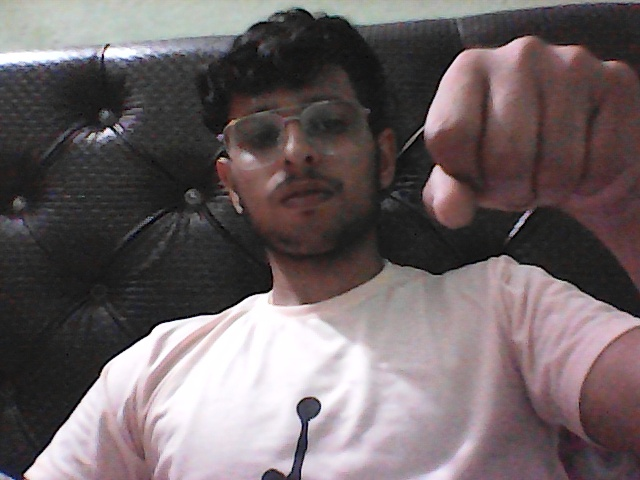yes: (405, 25, 640, 293)
